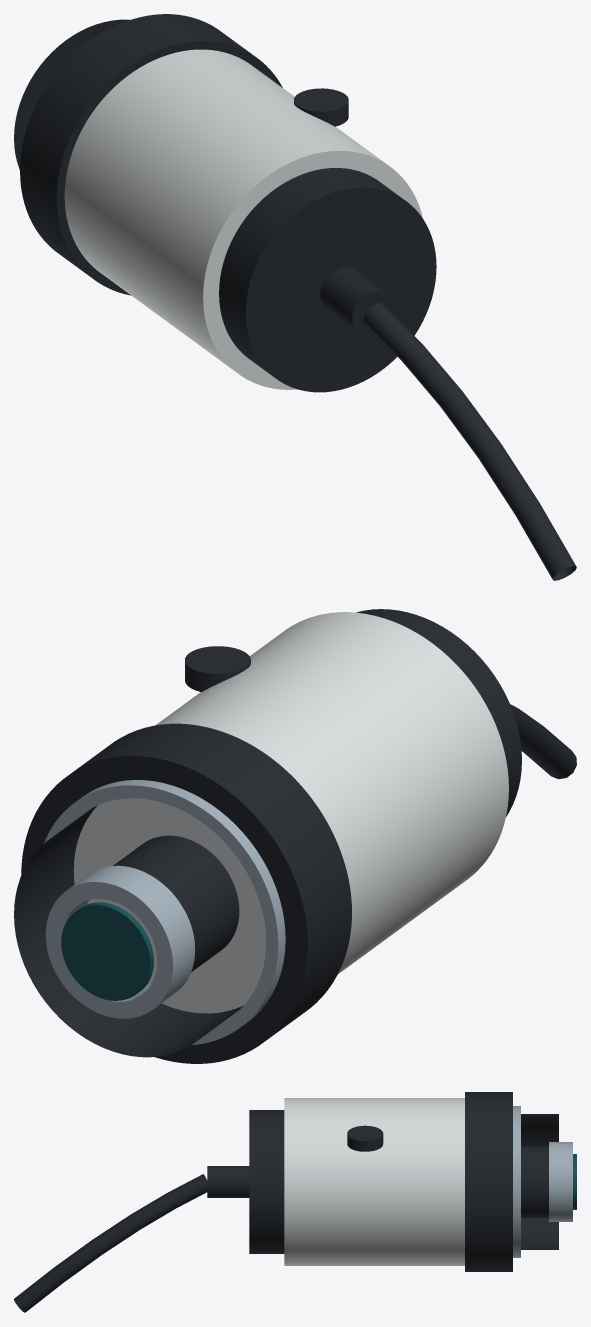
File: generic-endoscopic-camera-head-45bd3036d544.glb
3 views of the same model, one above another, from view 1: azimuth 30°, elevation 25°; view 2: azimuth 150°, elevation 25°; view 3: azimuth 270°, elevation 25° (orthographic). The views are drawn at different scales.
Visible parts, largest first — view 1: Camera_Round_Main_Housing, Camera_Round_Rear_End_Cap, Camera_Round_Front_Grip_Collar, Camera_Integral_CCU_Cable, Camera_Cable_Strain_Relief, Camera_Ocular_Coupler, Camera_Control_Button_2; view 2: Camera_Round_Main_Housing, Camera_Round_Front_Grip_Collar, Camera_Ocular_Coupler, Camera_Coupler_Metal_Insert, Camera_Round_Metal_Trim_Ring, Camera_Optical_Window, Camera_Round_Rear_End_Cap, Camera_Integral_CCU_Cable, Camera_Control_Button_2; view 3: Camera_Round_Main_Housing, Camera_Round_Front_Grip_Collar, Camera_Round_Rear_End_Cap, Camera_Ocular_Coupler, Camera_Integral_CCU_Cable, Camera_Coupler_Metal_Insert, Camera_Cable_Strain_Relief, Camera_Round_Metal_Trim_Ring, Camera_Control_Button_2.
Boxes of the visible parts, bbox=[...] form: Camera_Round_Main_Housing: bbox=[64, 49, 422, 389]; Camera_Round_Rear_End_Cap: bbox=[219, 168, 436, 392]; Camera_Round_Front_Grip_Collar: bbox=[20, 14, 282, 295]; Camera_Integral_CCU_Cable: bbox=[363, 302, 576, 580]; Camera_Cable_Strain_Relief: bbox=[320, 267, 394, 336]; Camera_Ocular_Coupler: bbox=[14, 19, 129, 169]; Camera_Control_Button_2: bbox=[294, 88, 348, 126]; Camera_Round_Main_Housing: bbox=[73, 612, 508, 1013]; Camera_Round_Front_Grip_Collar: bbox=[21, 723, 351, 1063]; Camera_Ocular_Coupler: bbox=[14, 805, 243, 1057]; Camera_Coupler_Metal_Insert: bbox=[45, 865, 195, 1018]; Camera_Round_Metal_Trim_Ring: bbox=[44, 780, 285, 1044]; Camera_Optical_Window: bbox=[61, 902, 153, 1000]; Camera_Round_Rear_End_Cap: bbox=[356, 609, 521, 816]; Camera_Integral_CCU_Cable: bbox=[510, 704, 576, 779]; Camera_Control_Button_2: bbox=[185, 646, 250, 692]; Camera_Round_Main_Housing: bbox=[284, 1098, 464, 1265]; Camera_Round_Front_Grip_Collar: bbox=[465, 1092, 512, 1271]; Camera_Round_Rear_End_Cap: bbox=[249, 1110, 284, 1253]; Camera_Ocular_Coupler: bbox=[521, 1114, 558, 1249]; Camera_Integral_CCU_Cable: bbox=[14, 1174, 207, 1312]; Camera_Coupler_Metal_Insert: bbox=[549, 1142, 572, 1221]; Camera_Cable_Strain_Relief: bbox=[207, 1166, 249, 1197]; Camera_Round_Metal_Trim_Ring: bbox=[513, 1106, 520, 1257]; Camera_Control_Button_2: bbox=[347, 1125, 383, 1151].
Bounding box in the file's own units: 0.09 × 0.1084 × 0.2818.
